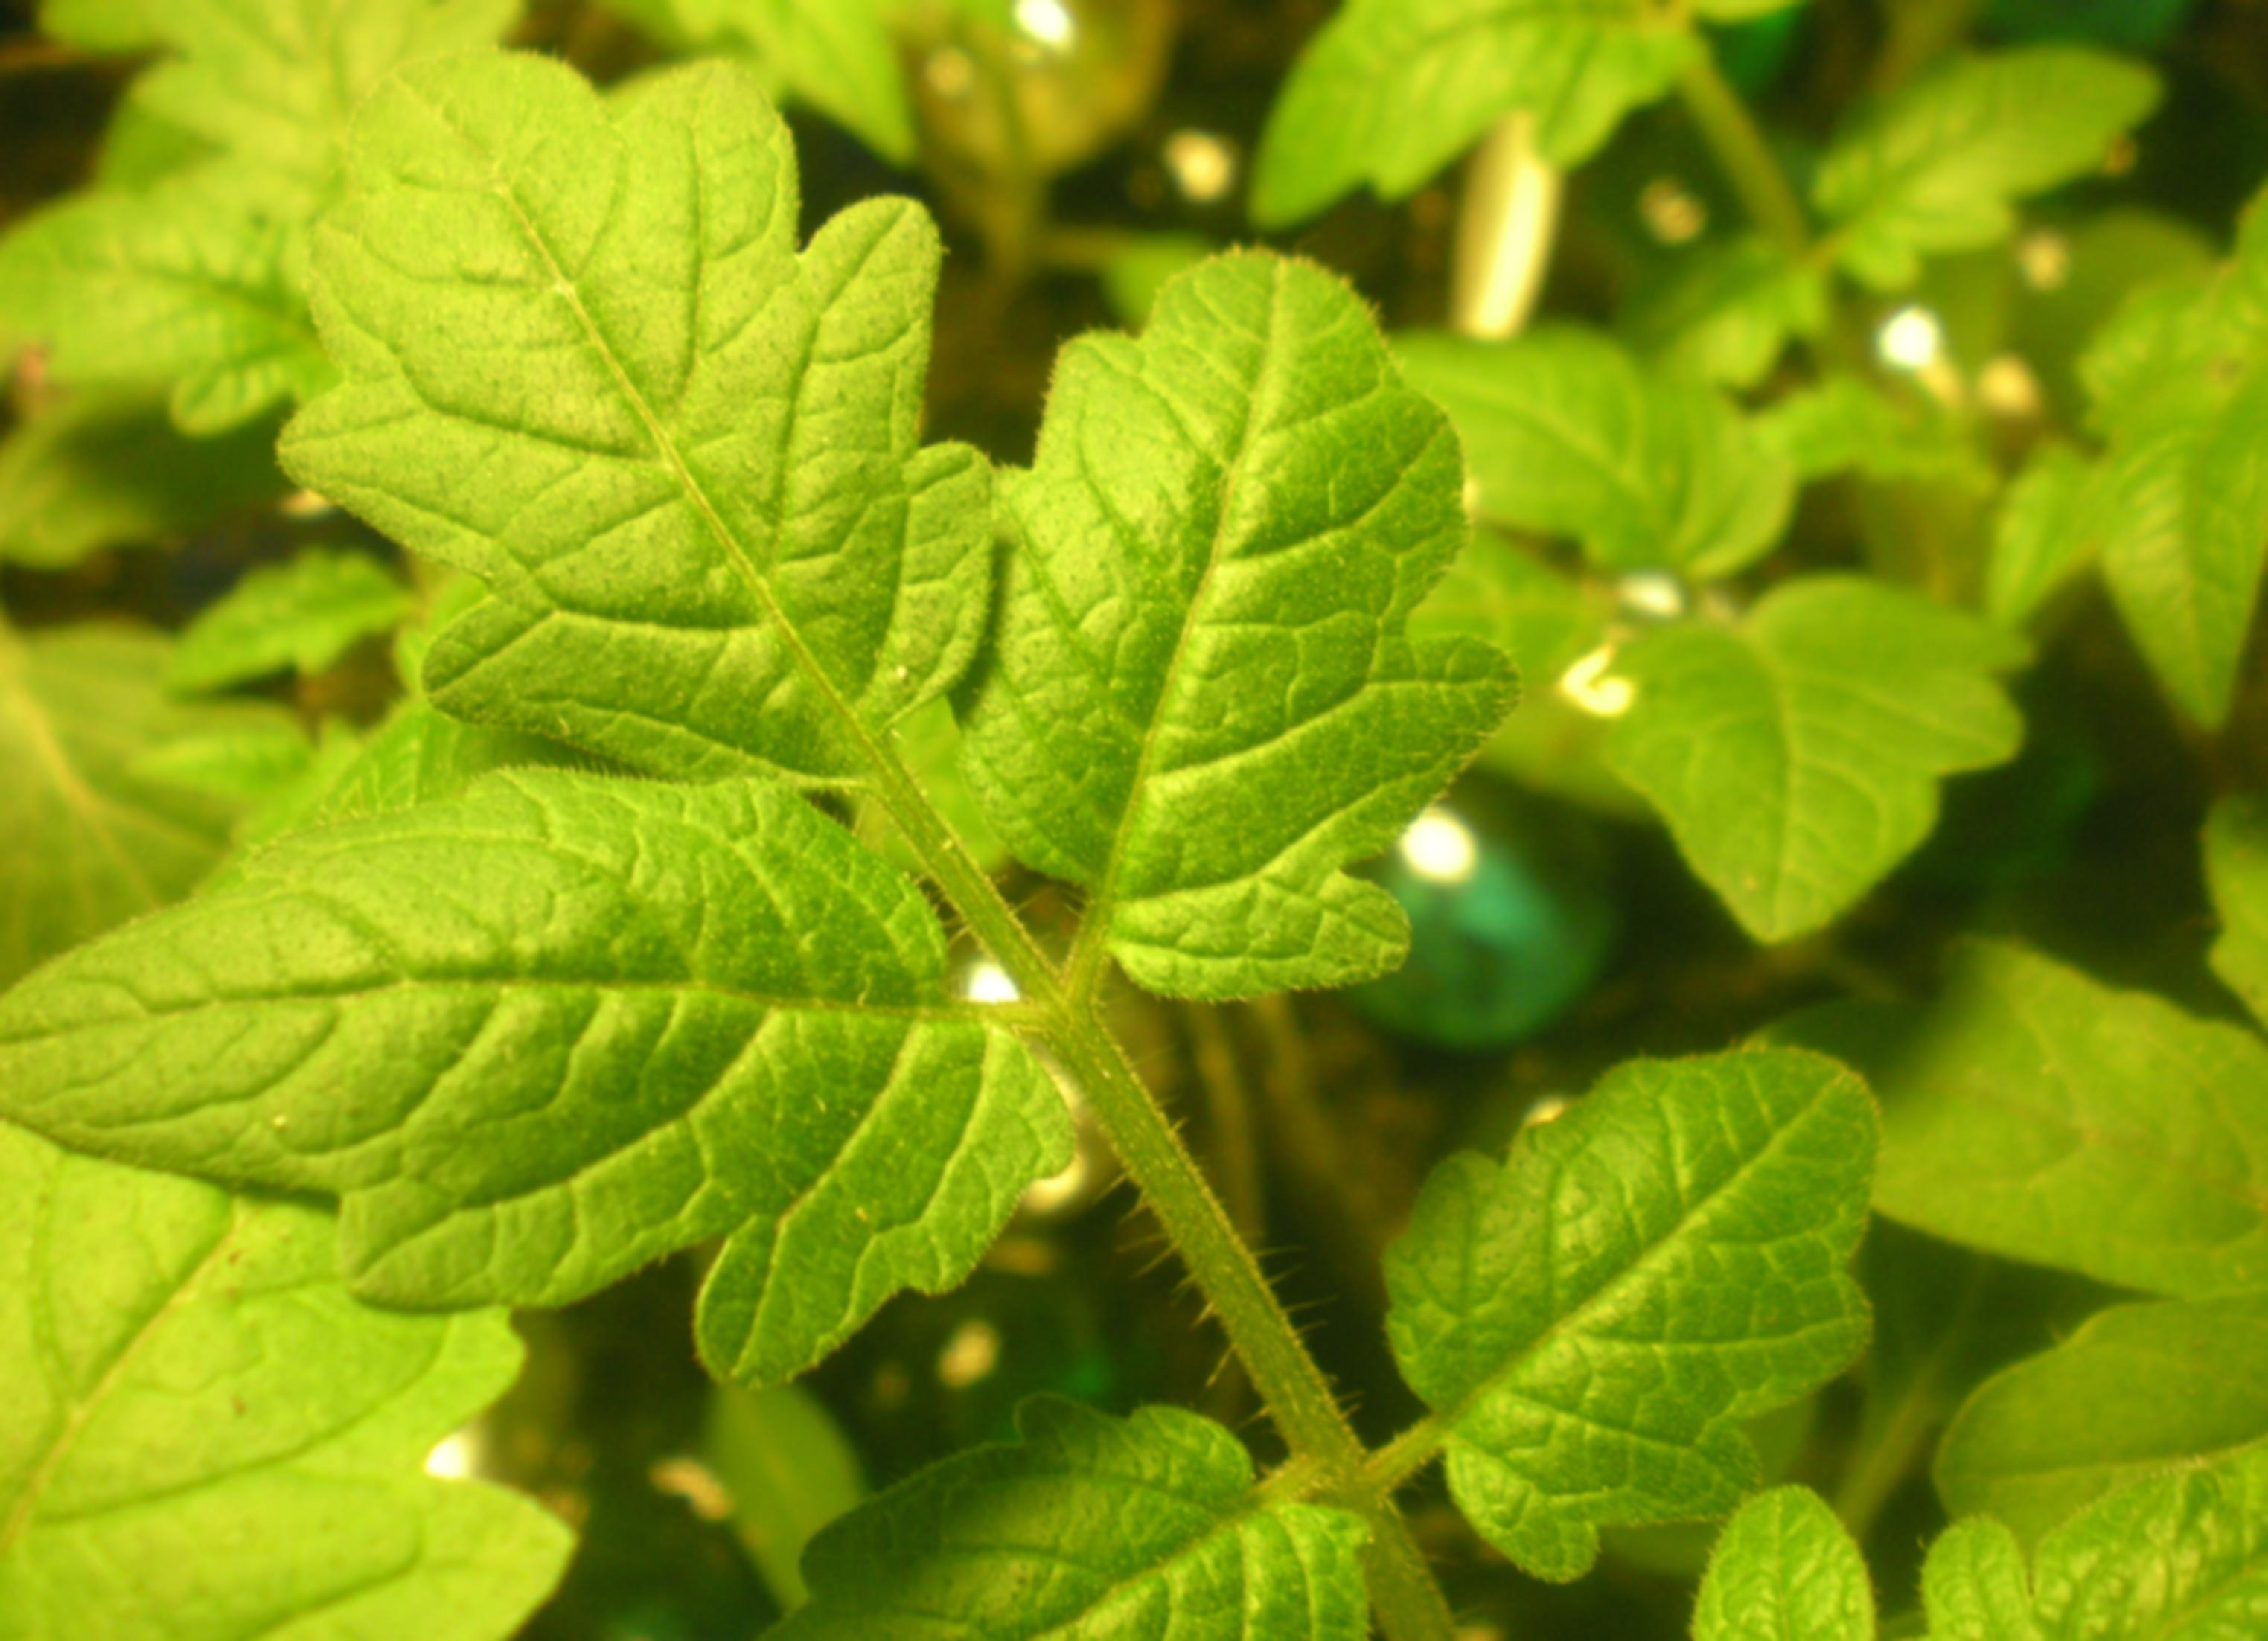Tomato leaf: (0, 784, 1093, 1373), (280, 30, 979, 820), (928, 225, 1520, 1081), (1319, 998, 1932, 1534), (674, 1370, 1382, 1641), (1555, 565, 2036, 954), (1372, 283, 1801, 588), (1219, 0, 1710, 229)
